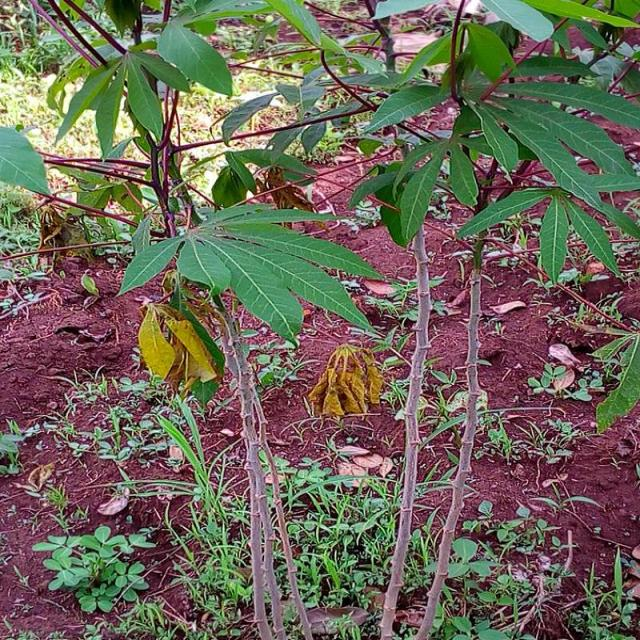cassava leaf: (117, 199, 386, 348)
